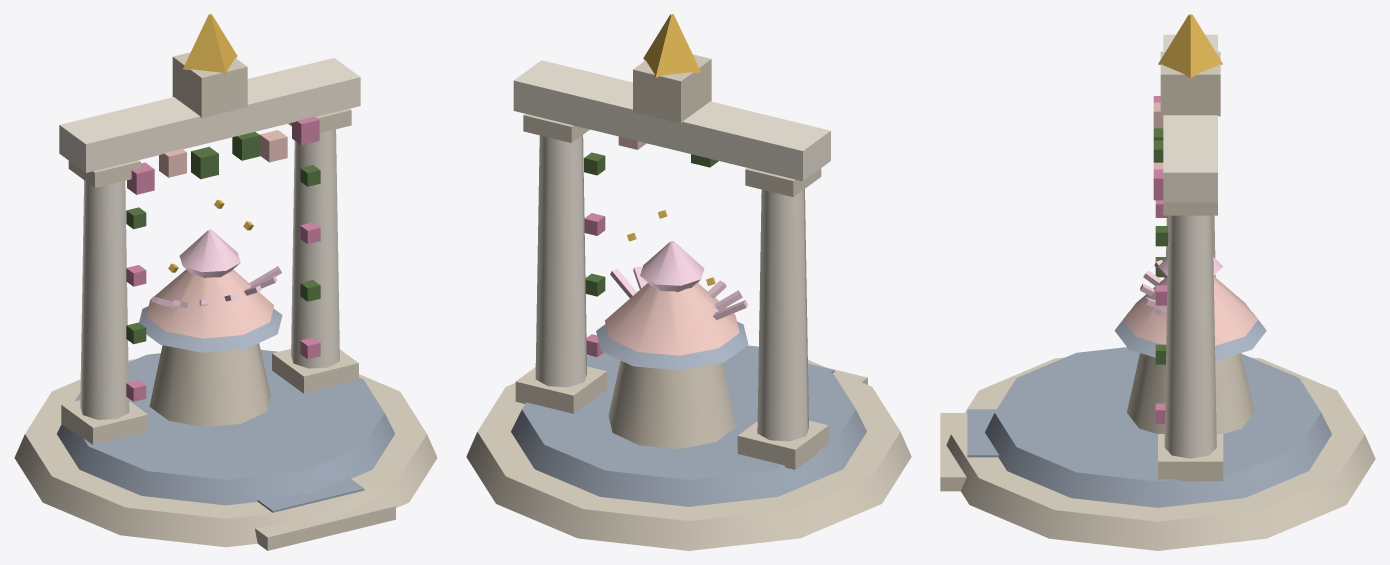
The model's file is bld_shrine.glb.
3 views of the same model, side by side, from view 1: azimuth 30°, elevation 25°; view 2: azimuth 150°, elevation 25°; view 3: azimuth 270°, elevation 25° (orthographic). The views are drawn at different scales.
Parts seen in each view (by area): view 1: bld_shrine; view 2: bld_shrine; view 3: bld_shrine.
Part boxes in pixels (x1,y1,x2,y2): bld_shrine: (14, 14, 437, 550); bld_shrine: (466, 14, 911, 550); bld_shrine: (940, 14, 1375, 550).
Bounding box in the file's own units: 4 × 4.5 × 4.
1 material, 1 textured.
